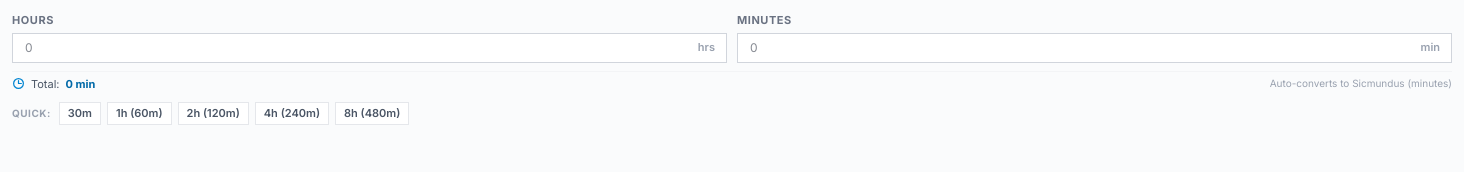
Scenario: DurationInput Component › updates hours, minutes, and total when clicking a quick preset
Click the button "4h (240m)" at (292, 113), box [255, 102, 329, 124]
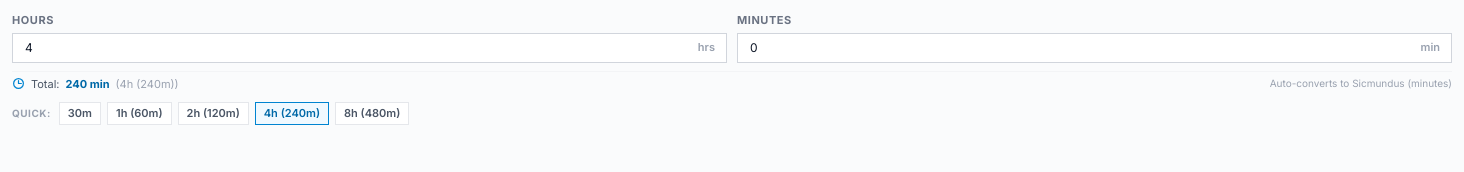
Expected: the 2nd number field showing "0" is shown, [737, 32, 1452, 62]
Now the number field showing "4" next to "hrs" is shown, box [12, 32, 727, 62]
Now the text "240 min" is shown, box [66, 76, 110, 92]
